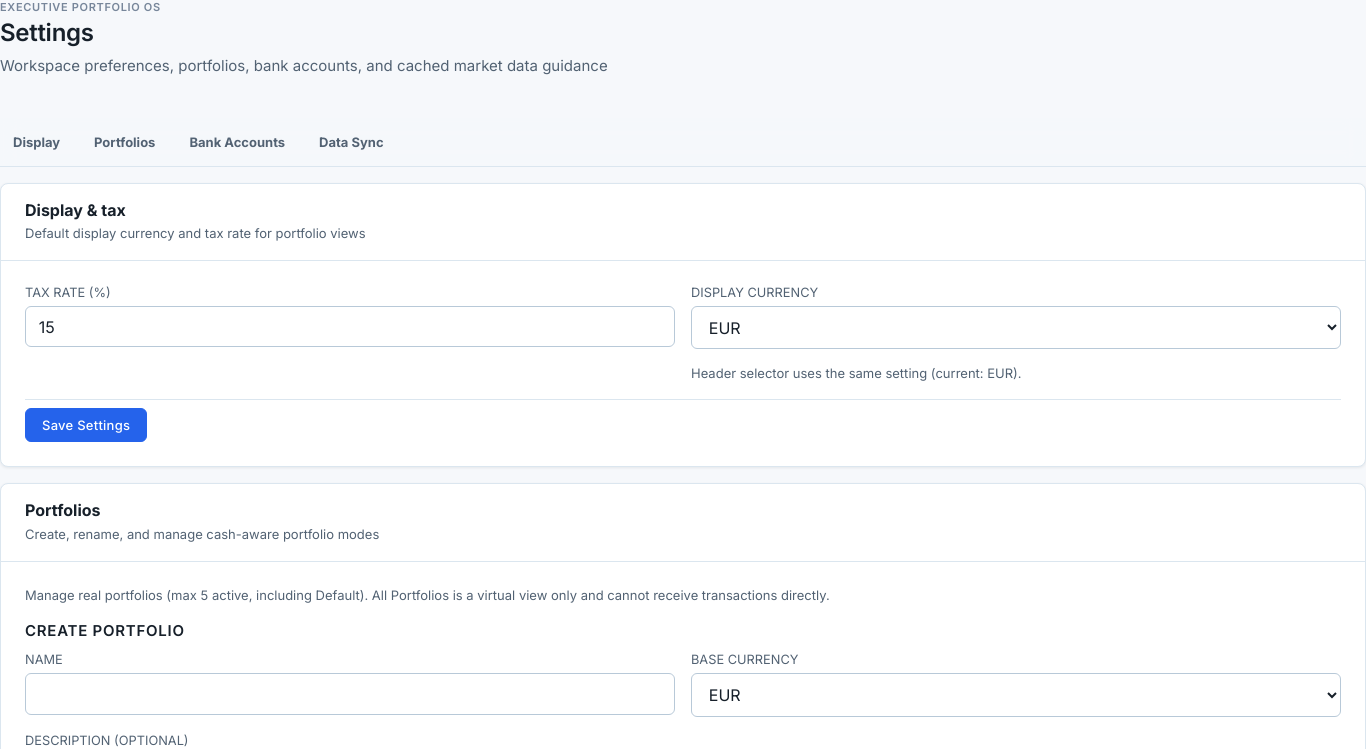
Test: Settings Page › shows backend error on duplicate portfolio name
The width and height of the screenshot is (1366, 749).
Type "Duplicate" into the field labelled "Name".
click(350, 694); type("Duplicate")  # box [25,674,675,715]
(page scrolled)
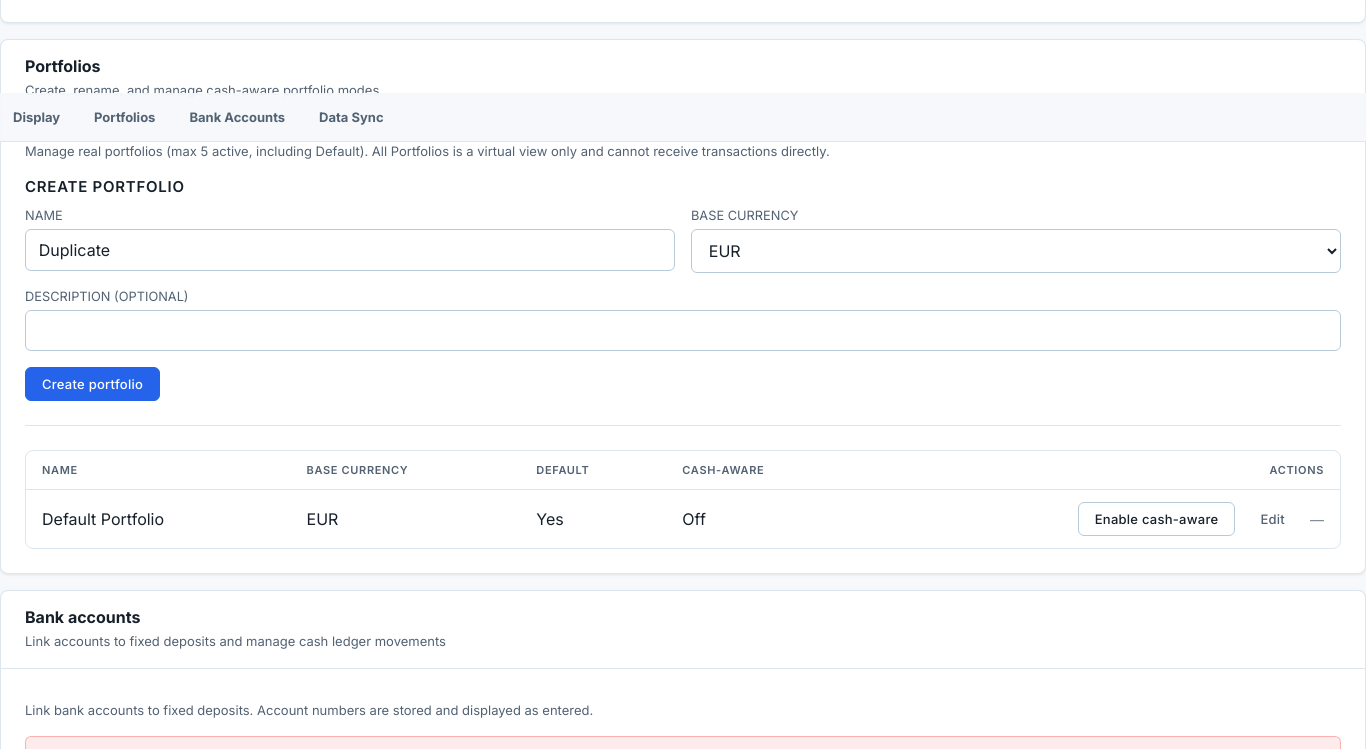
Click the button "Create portfolio".
click(93, 384)  # box [25,367,160,401]
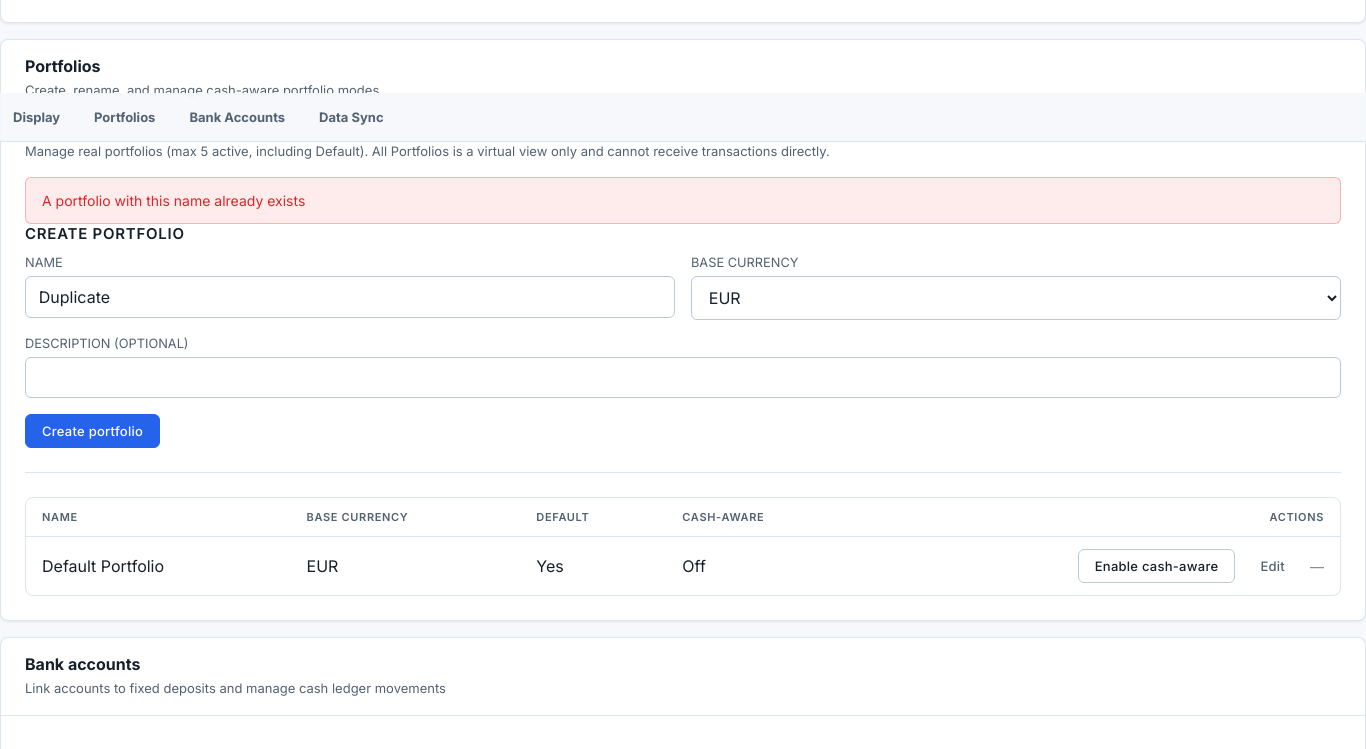
expect the text "A portfolio with this name already exists" is shown: met, box [42,190,305,211]
